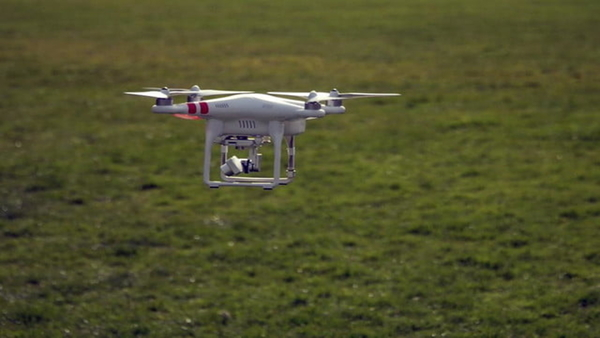drone: (122, 82, 403, 194)
